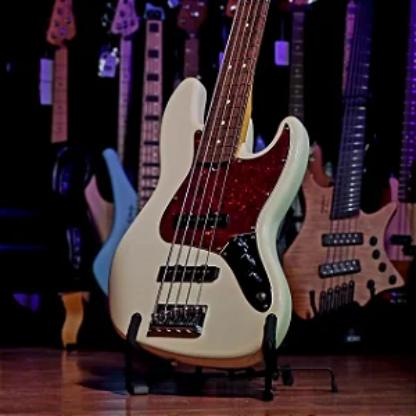bass: (112, 0, 308, 382)
